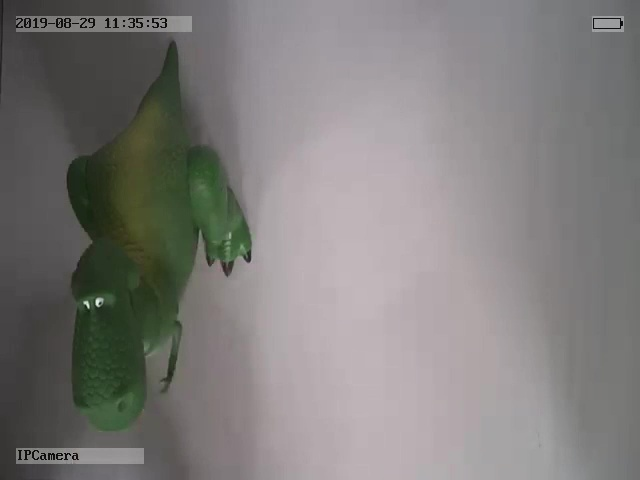rex: (63, 37, 253, 432)
